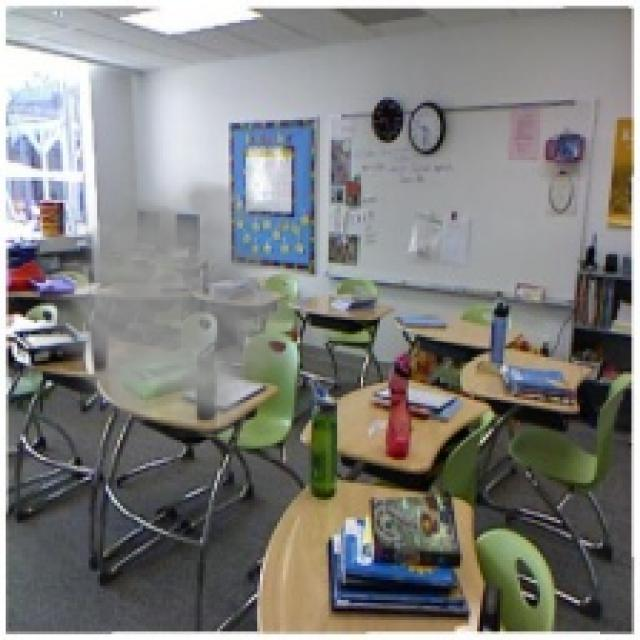smoke: (26, 160, 306, 437)
